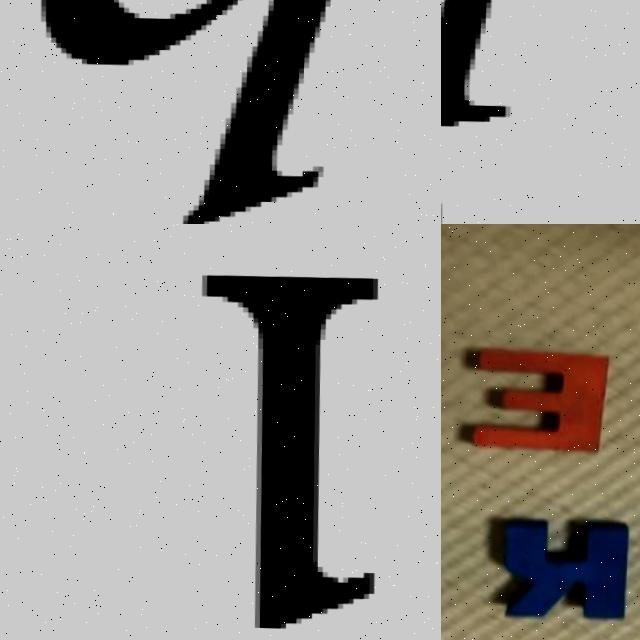E: (470, 345, 612, 451)
I: (179, 262, 401, 640)
J: (441, 0, 640, 224)
K: (498, 512, 627, 617)
